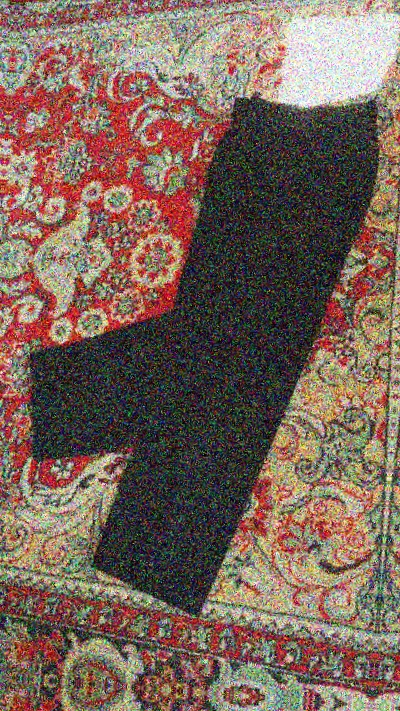Pants: (17, 20, 385, 637)
